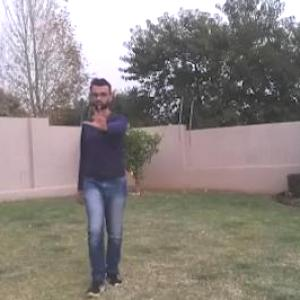follow_hand: (83, 102, 113, 130)
